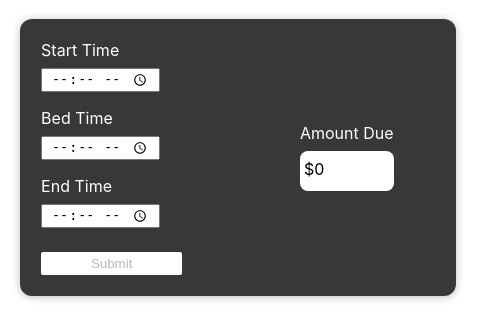
Scenario: calculates amount due with start to bed ($12hr) and bed to end ($8hr) rates
The image size is (477, 318).
In the time field with test id "start-time": {"x": 101, "y": 80} [41,68,160,92], type "17:00"
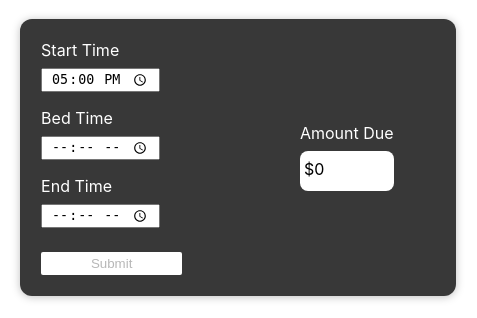
In the time field with test id "bed-time": {"x": 101, "y": 148} [41,136,160,160], type "20:00"
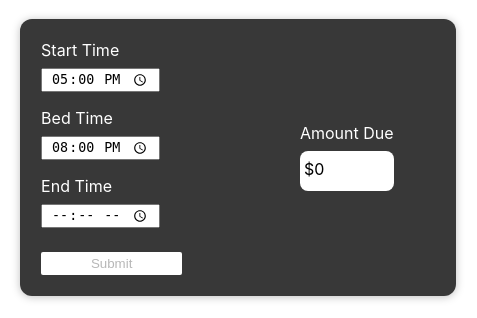
In the time field with test id "end-time": {"x": 101, "y": 216} [41,204,160,228], type "22:00"
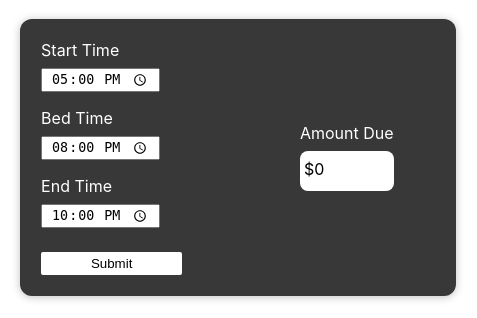
Click the button with test id "submit-btn": {"x": 112, "y": 263} [41,252,182,275]
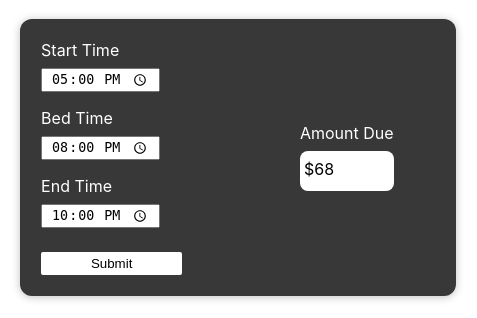
Now the text with test id "amount-due" reads "$68", box [300,151,394,191]
